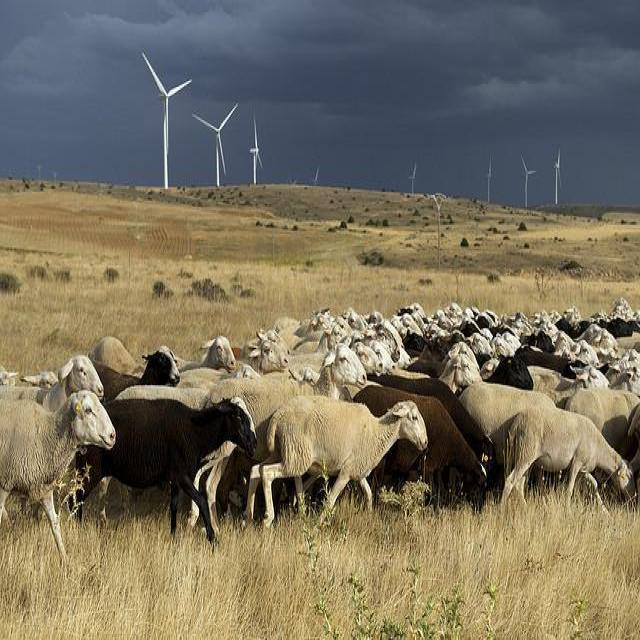Sheep: (11, 297, 638, 634), (243, 396, 428, 530), (0, 390, 118, 568), (203, 346, 367, 460), (498, 408, 639, 523), (0, 354, 104, 414), (563, 385, 639, 463)
